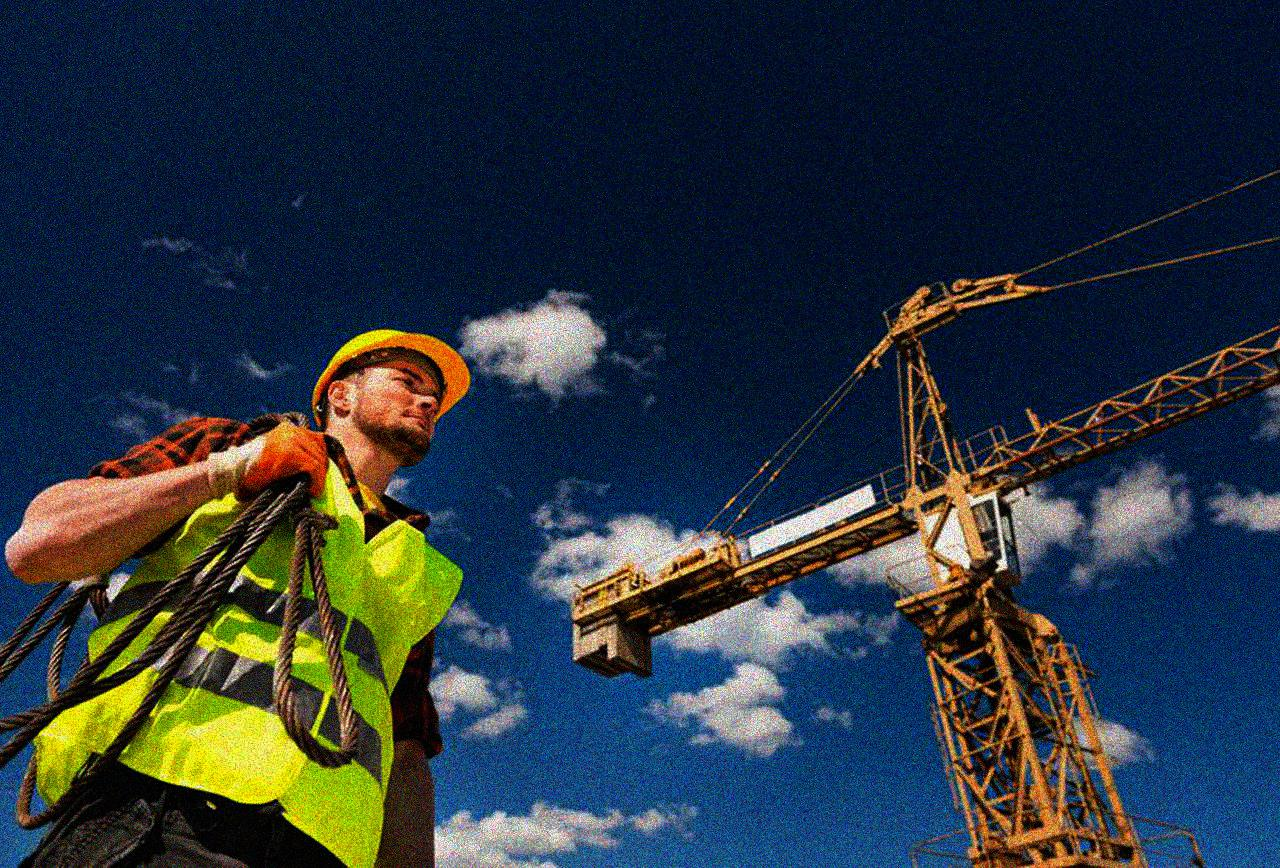helmet: (311, 322, 471, 472)
